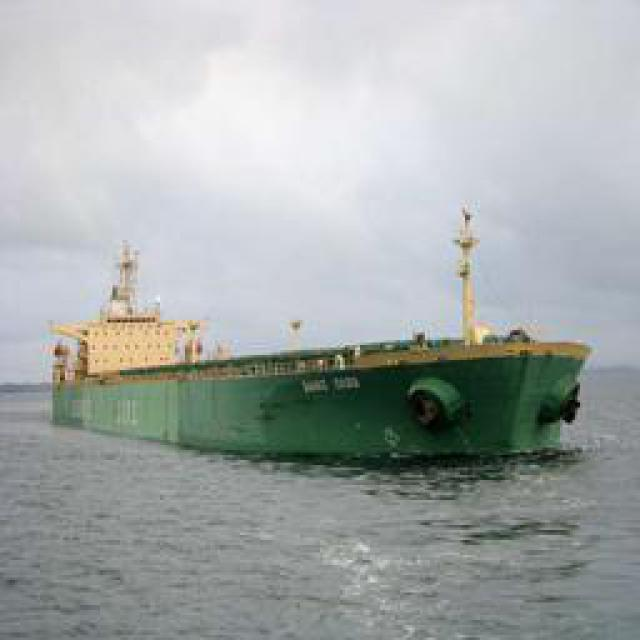Ship: (49, 248, 599, 456)
